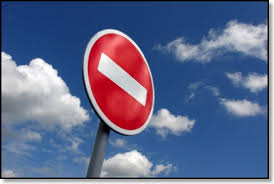No_entry: (83, 28, 155, 135)
